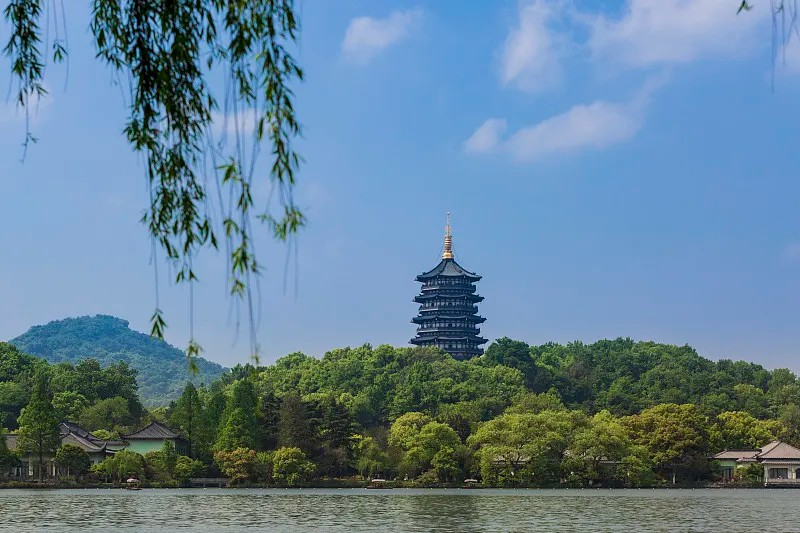Leifeng: (411, 209, 489, 362)
